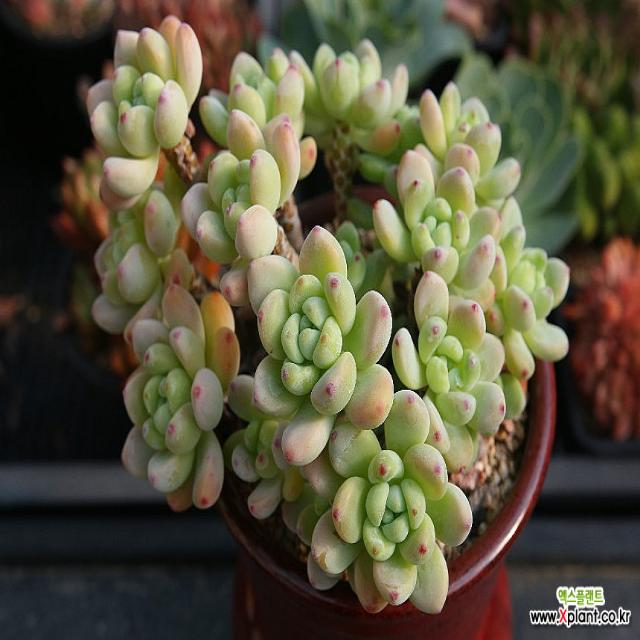LumiRose: (281, 390, 472, 613), (248, 227, 392, 463), (121, 248, 240, 511), (392, 270, 525, 435), (372, 143, 504, 309), (88, 17, 202, 209), (289, 39, 408, 213), (478, 195, 569, 416), (86, 154, 191, 341), (180, 111, 301, 264), (398, 83, 521, 226), (200, 49, 306, 202), (64, 150, 102, 225), (295, 137, 316, 179)
